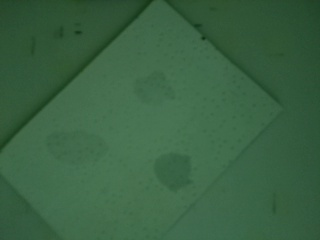Water_detected: (161, 157, 193, 191), (140, 76, 170, 110), (73, 145, 104, 169)
